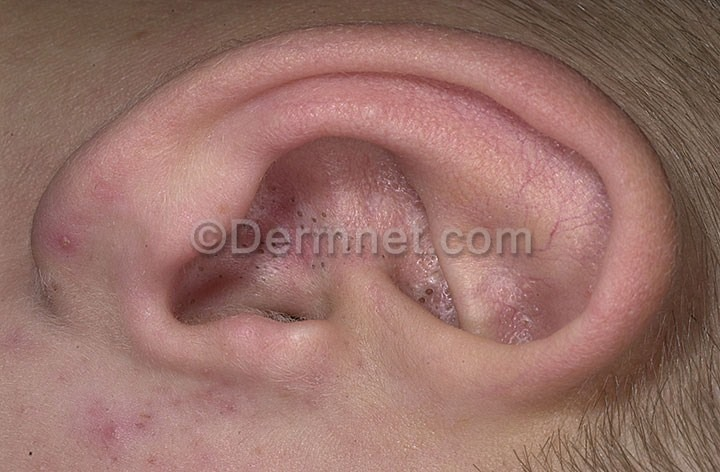Acne: (178, 182, 507, 335)
